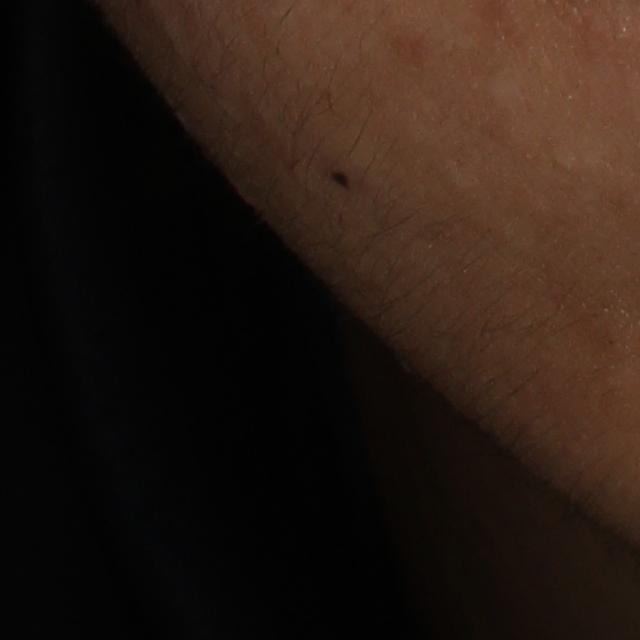nevus: (328, 168, 352, 195)
